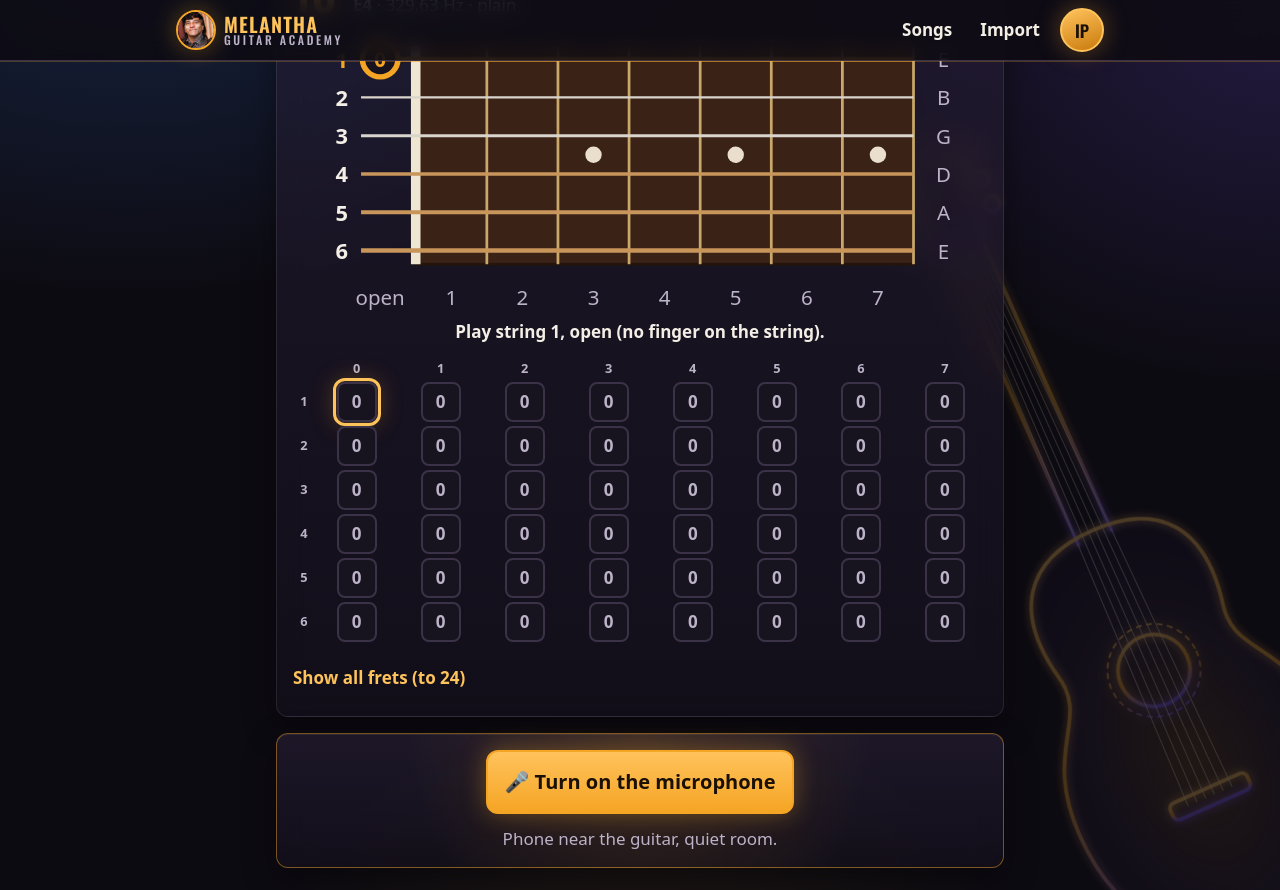
Test: dataset collector: recording › microphone refused: says so
(page scrolled)
What coordinates should you click on to do the following:
click the button "🎤 Turn on the microphone"
I would click on:
 (640, 782)
Its box is x1=486 y1=750 x2=794 y2=814.
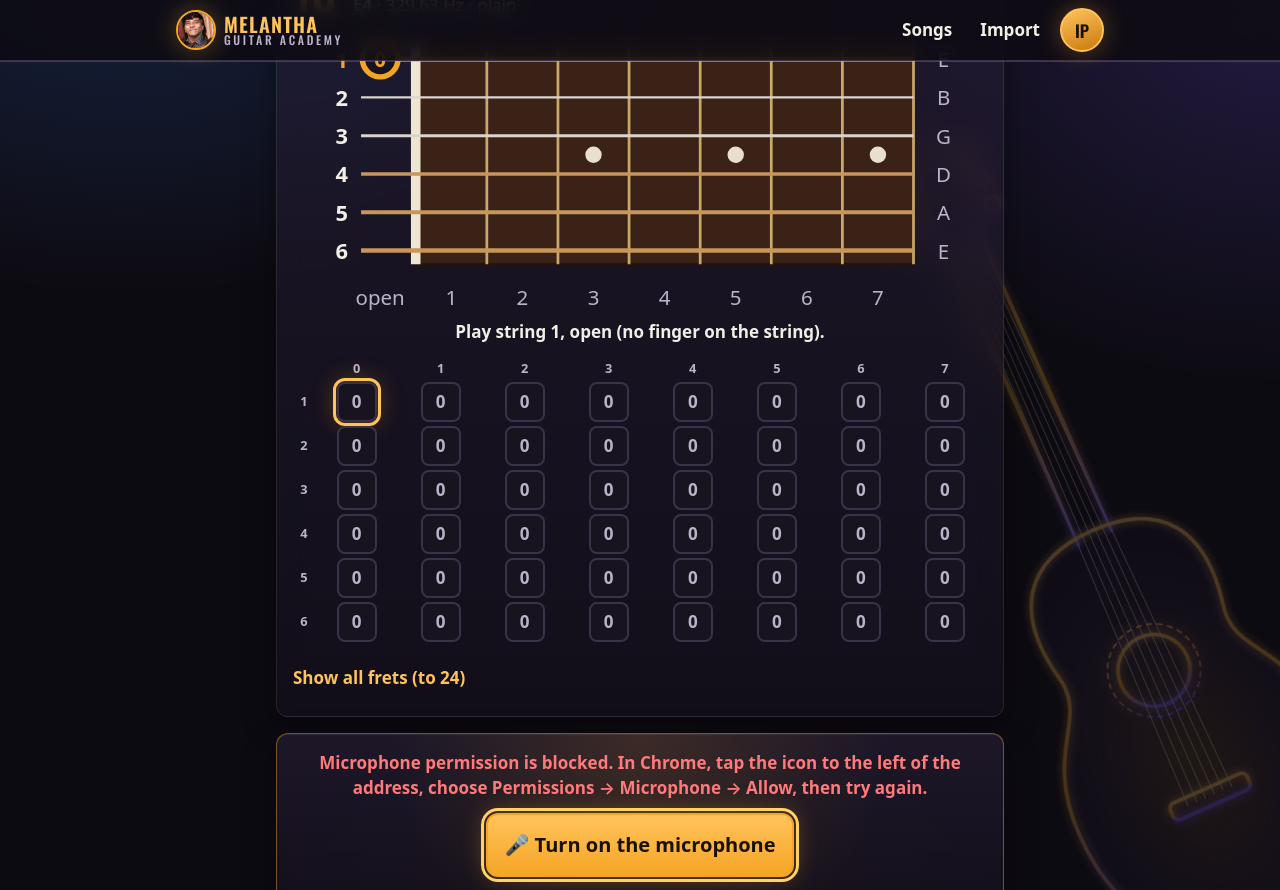
Expected: the message is shown, x1=293 y1=750 x2=987 y2=801
